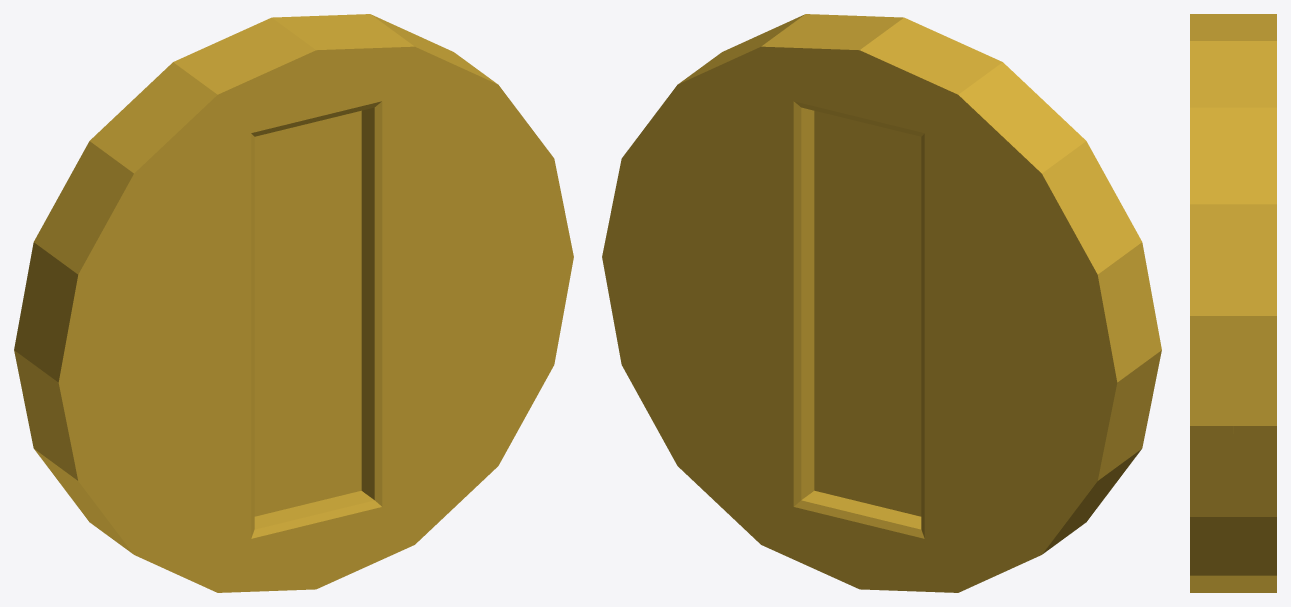
Rendered from Coin.fbx.
3 renders of one model, left to right at view 1: azimuth 30°, elevation 25°; view 2: azimuth 150°, elevation 25°; view 3: azimuth 270°, elevation 25°, orthographic. The views are drawn at different scales.
Parts seen in each view (by area): view 1: Cylinder; view 2: Cylinder; view 3: Cylinder.
Boxes of the visible parts, x1=… form: Cylinder: x1=14, y1=14, x2=573, y2=592; Cylinder: x1=602, y1=14, x2=1161, y2=592; Cylinder: x1=1190, y1=14, x2=1276, y2=592.
Bounding box in the file's own units: 400 × 400 × 60.
